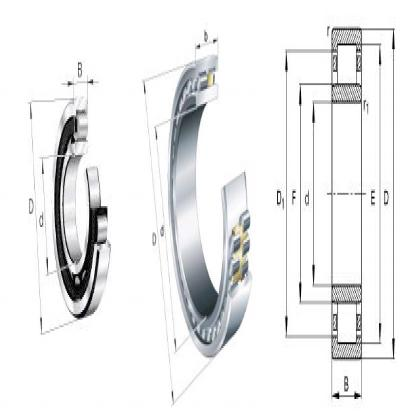FOD: (165, 31, 253, 366), (48, 88, 112, 324)
